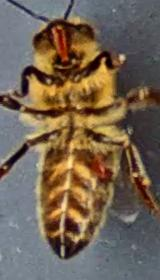varroa_mite: (79, 146, 128, 204)
